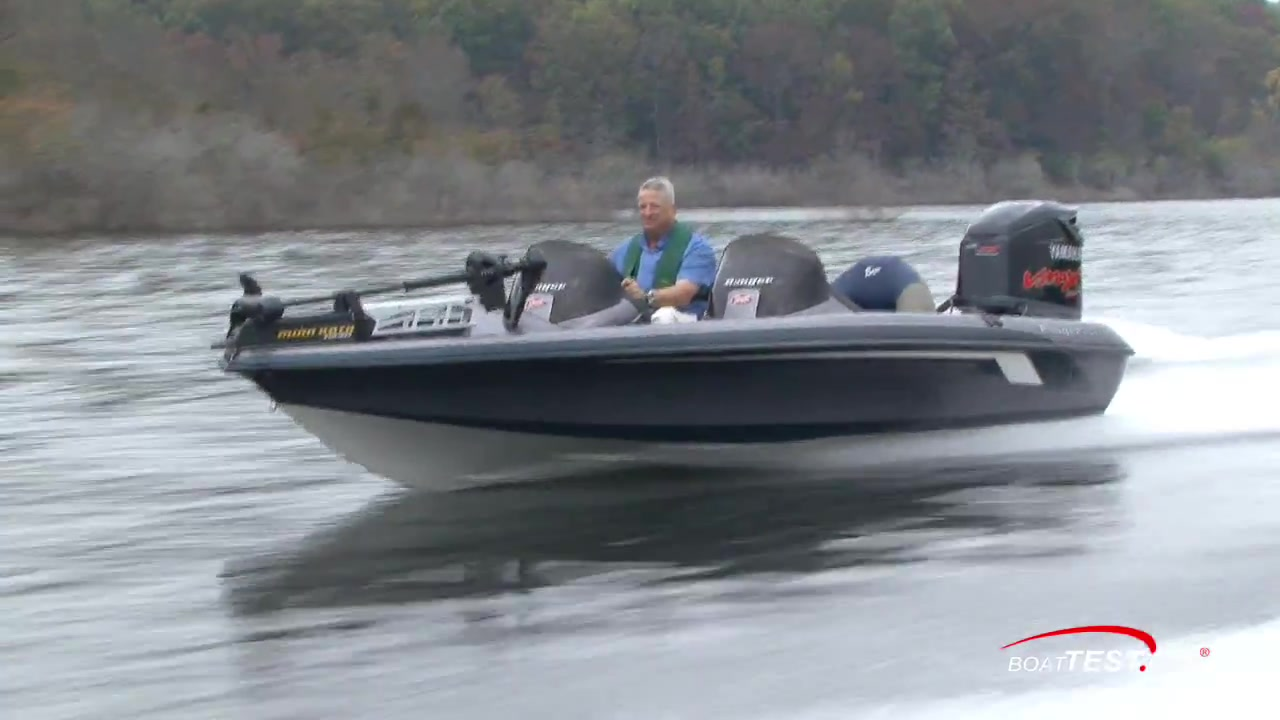boat: (225, 198, 1133, 501)
